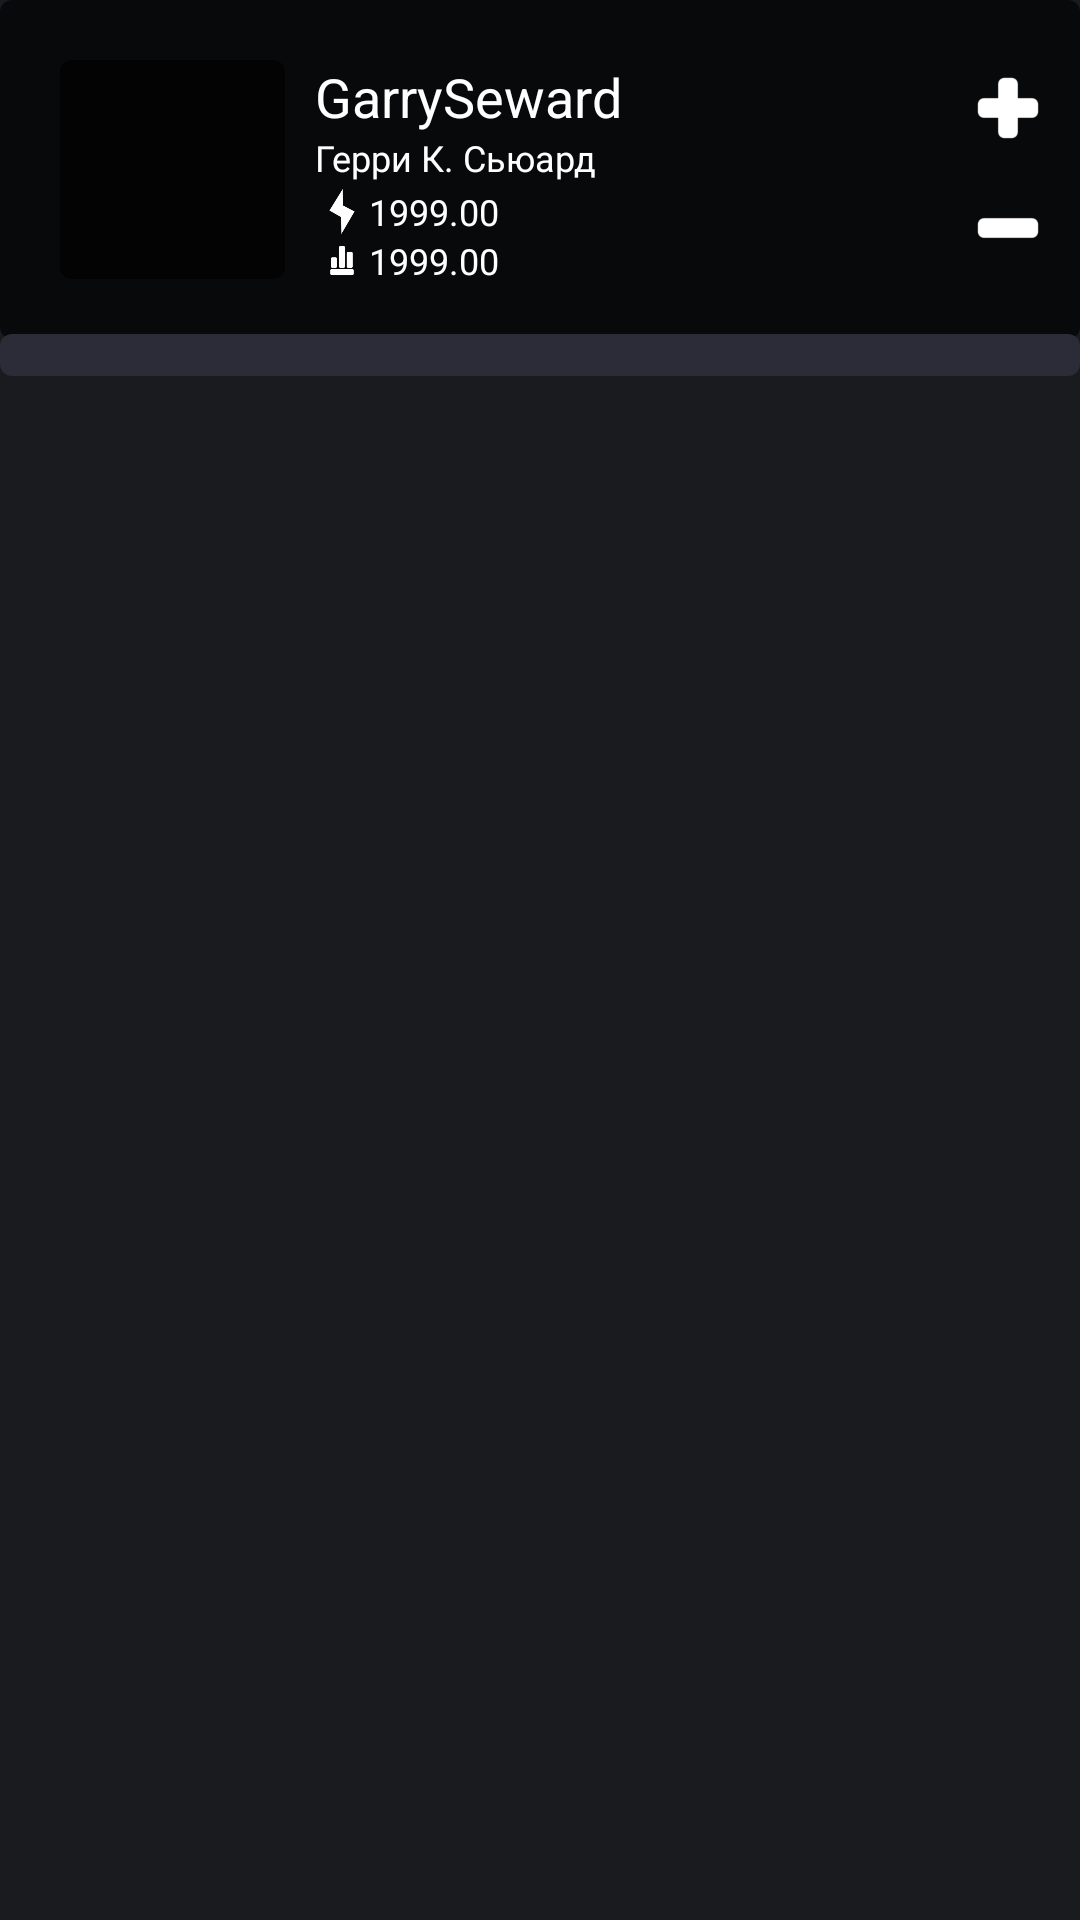

Icon bounding boxes for this 1080px x 1920px phone screenshot, format (x1,y1,x2,y2):
bar minus: (977,218,1039,238)
bar plus: (977,77,1039,139)
powah: (329,189,355,234)
rating: (330,246,354,275)
